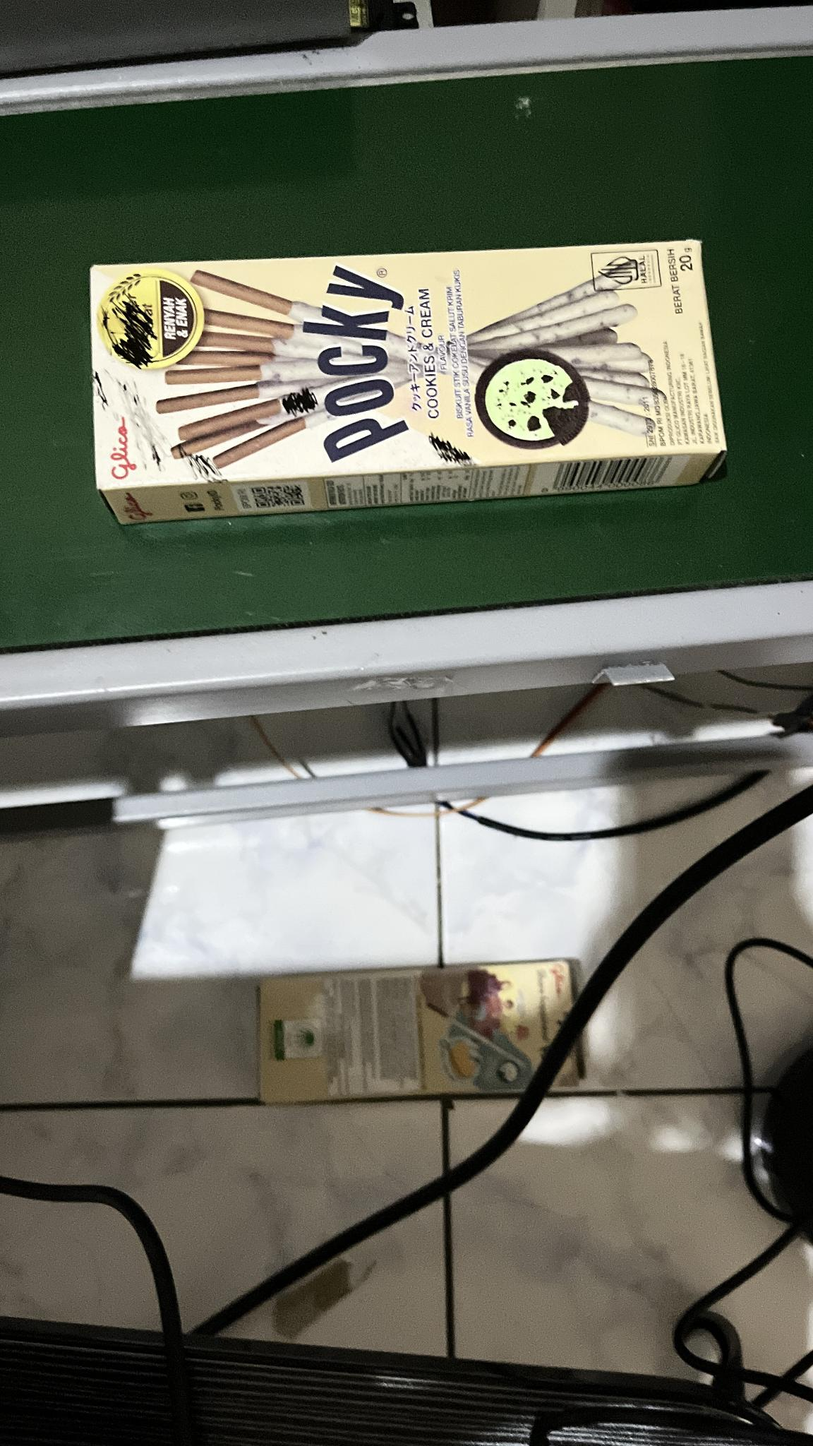Kertas: (79, 240, 735, 495)
